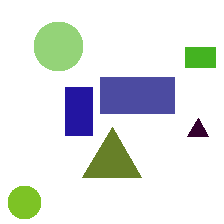circle: (34, 22, 82, 70), (8, 186, 40, 218)
rectangle: (100, 77, 174, 113), (65, 87, 92, 135), (185, 47, 215, 67)
triangle: (82, 127, 141, 177), (187, 118, 208, 136)
